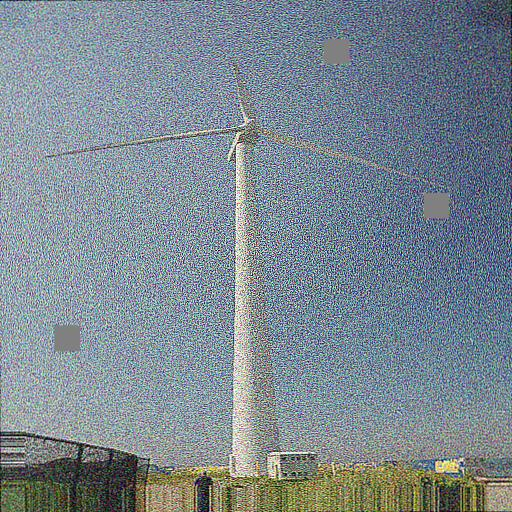wind turbine: (43, 56, 450, 464)
